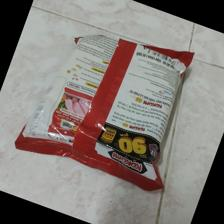Kokomi: (15, 32, 199, 196)
